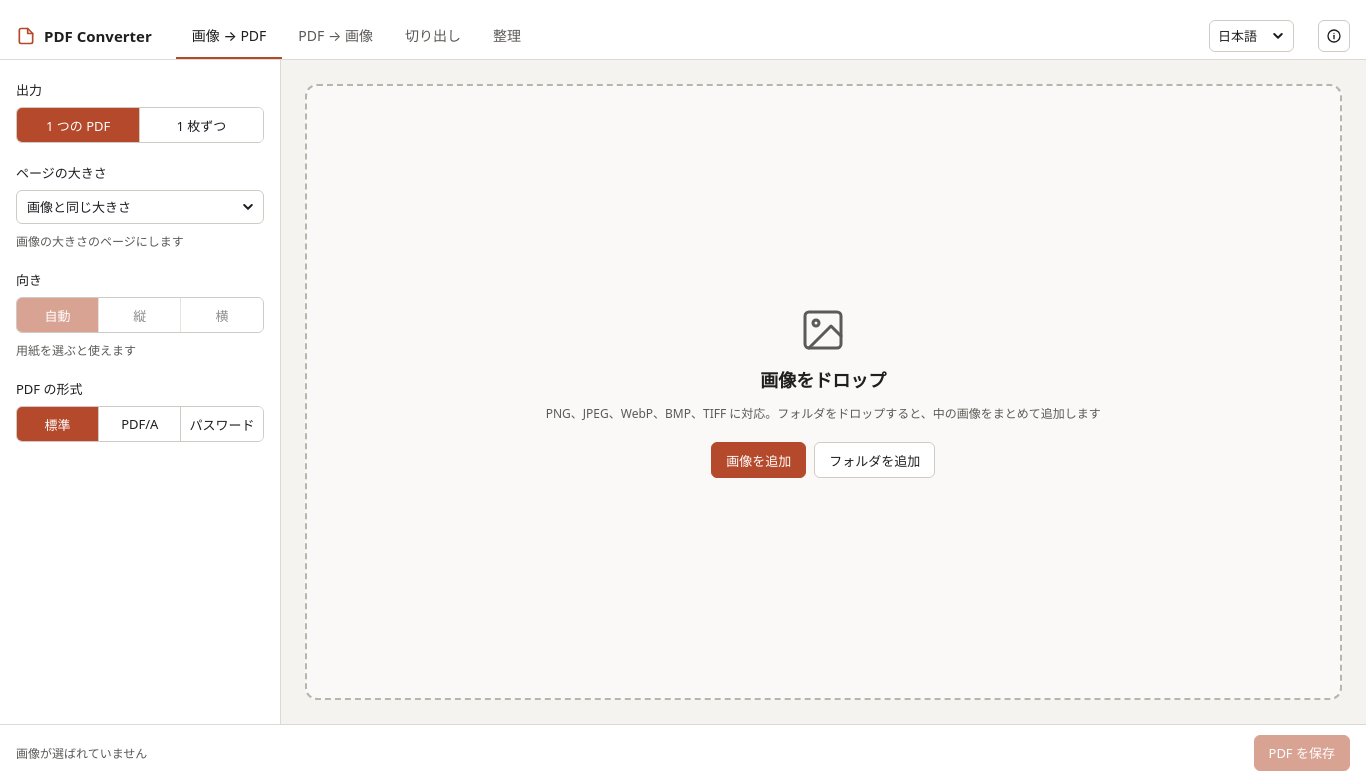
Test: the crop tab: opening a PDF › the tab › is the third of the four tabs and shows the crop screen
Click the tab "切り出し" at (433, 36), box [389, 12, 477, 59]
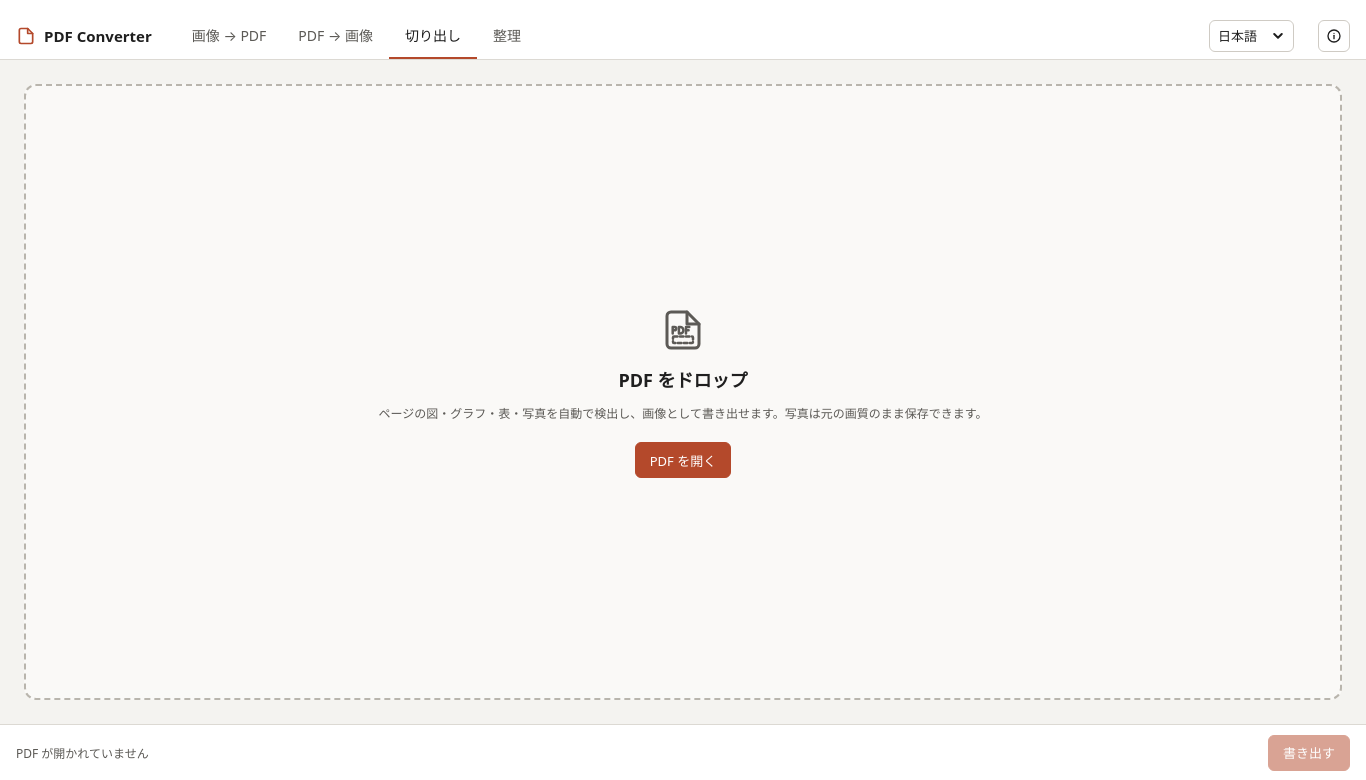
Expected: the button "PDF を保存" is gone
Expected: the text "PDF をドロップ" is shown, [618, 366, 748, 392]
